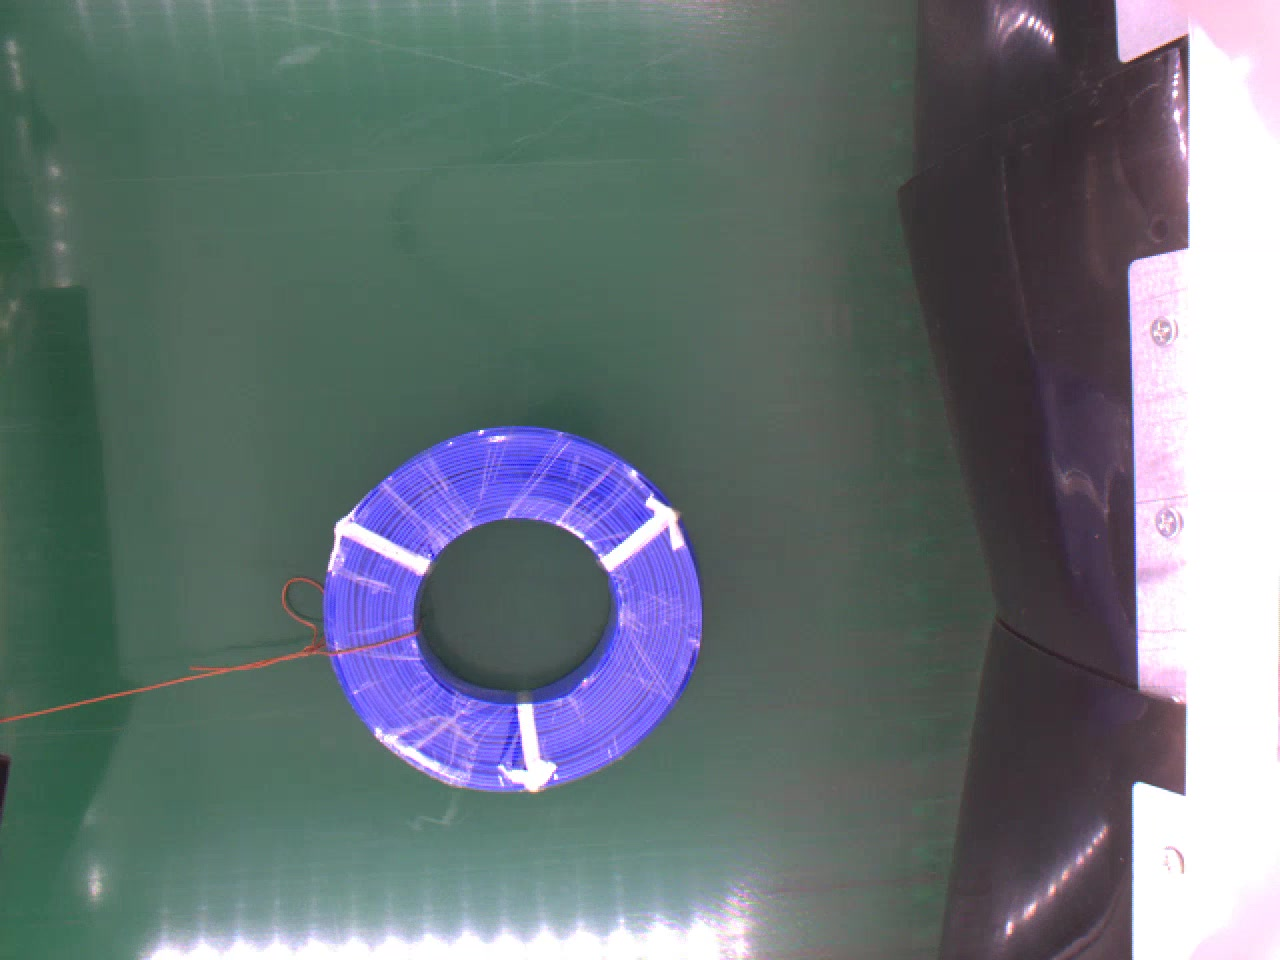blue: (321, 419, 698, 794)
